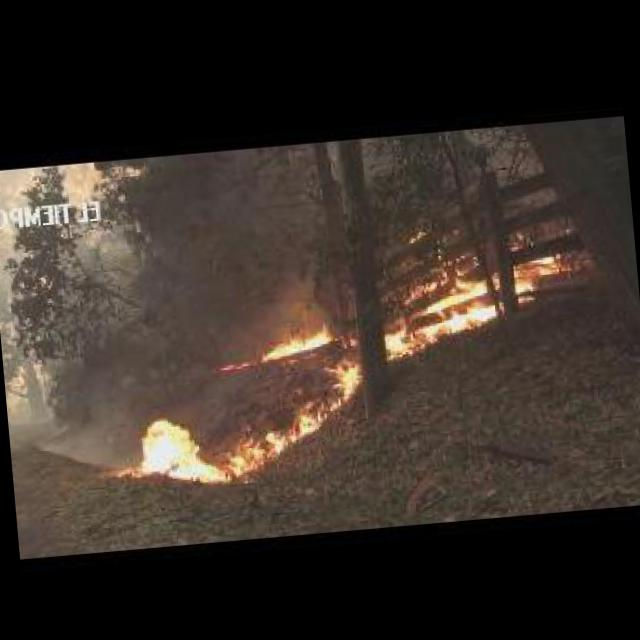fire: (133, 400, 329, 485), (377, 268, 494, 358), (512, 248, 568, 300), (260, 323, 336, 360), (323, 353, 362, 408), (214, 357, 248, 373), (405, 224, 426, 243), (510, 230, 524, 252)
